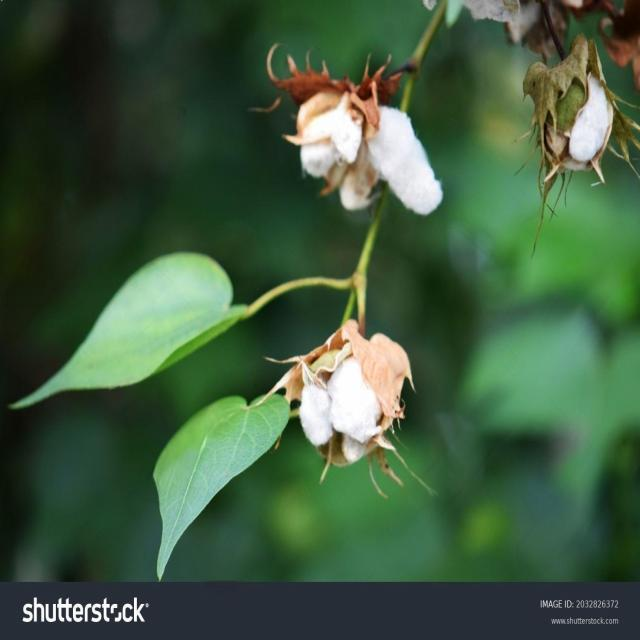Early_blight: (285, 83, 457, 235), (287, 324, 421, 499), (514, 20, 635, 196)
